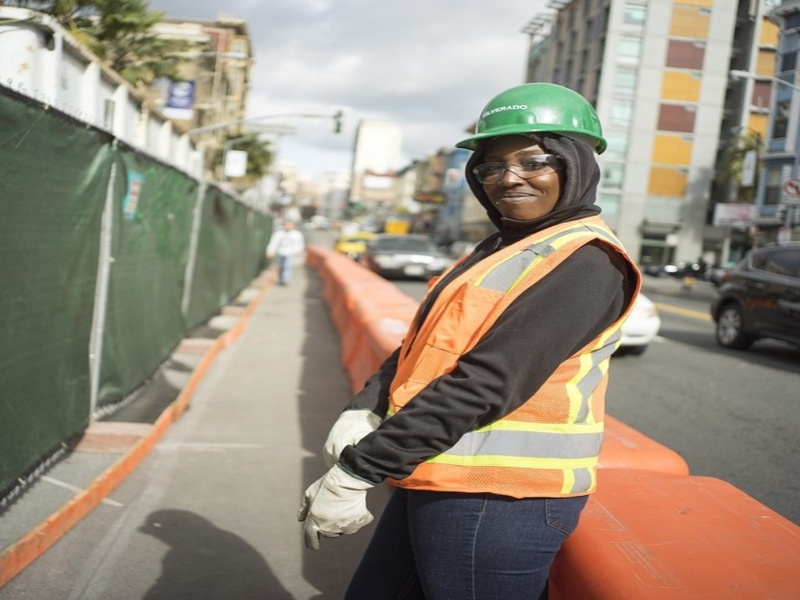Baret: (456, 82, 607, 147)
